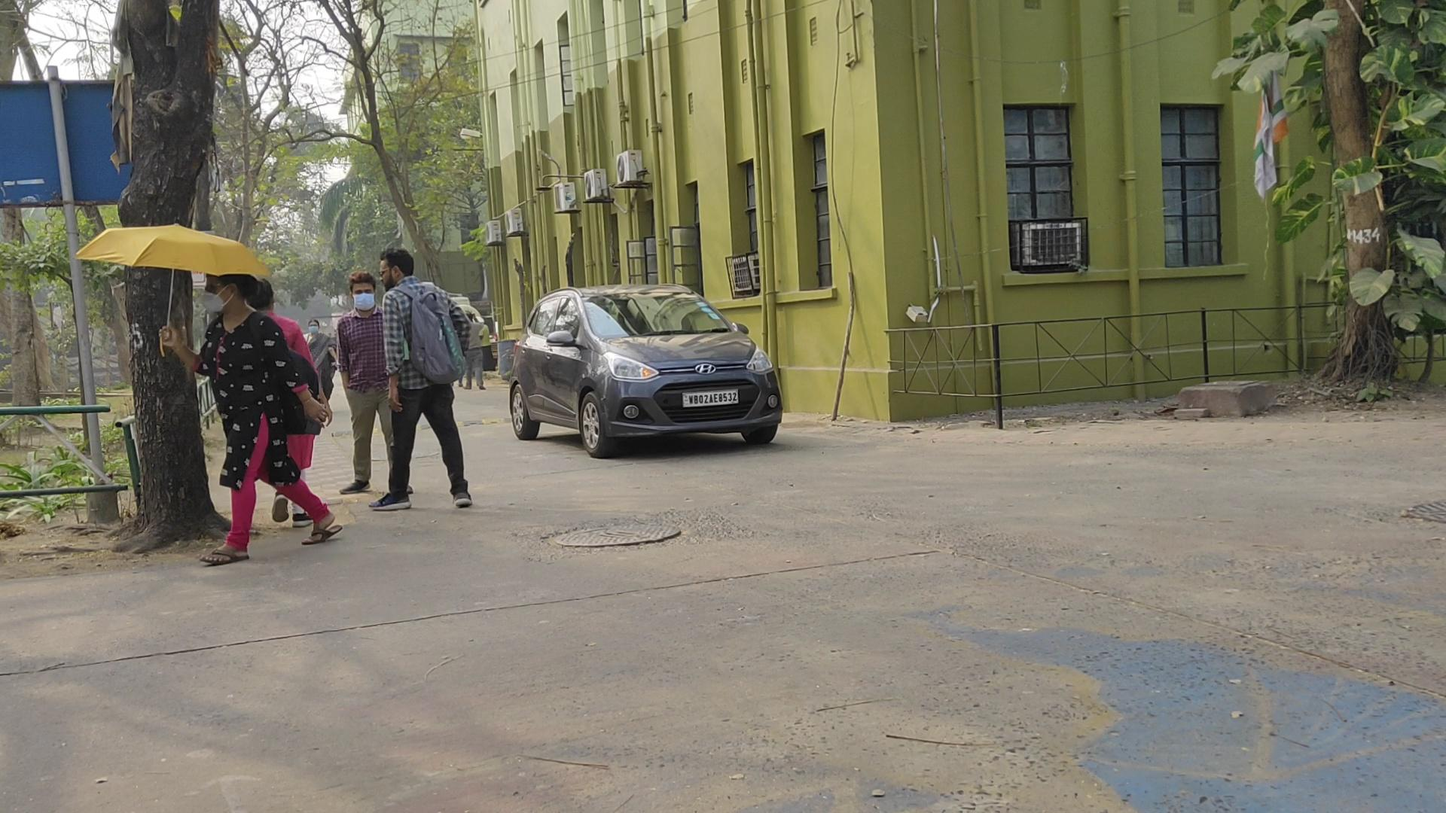car: (509, 285, 782, 458)
